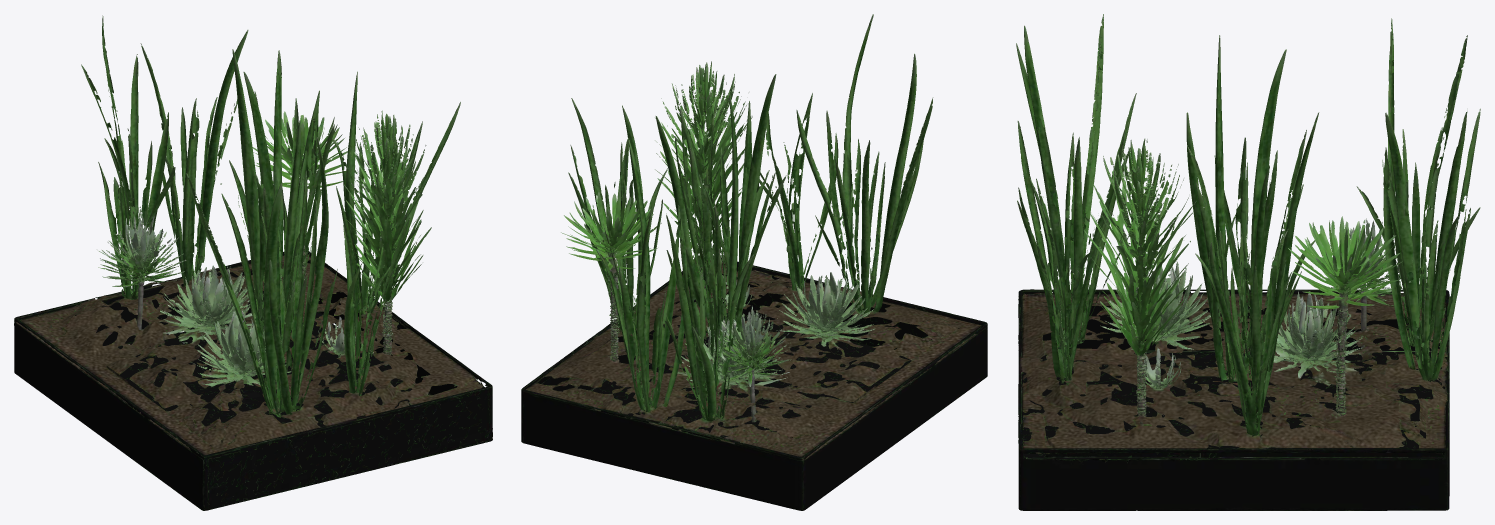
File: architectural_plants.raw.glb
The picture shows the model from 3 angles, left to right: view 1: azimuth 30°, elevation 25°; view 2: azimuth 150°, elevation 25°; view 3: azimuth 270°, elevation 25°; orthographic projection. The views are drawn at different scales.
Visible parts, largest first — view 1: world; view 2: world; view 3: world.
Part boxes in pixels (x1,y1,x2,y2): world: (14,15,492,510); world: (521,14,987,510); world: (1016,14,1480,510).
Size of the model in its own units: 0.9611 by 0.9241 by 0.9985.
1 material, 1 textured.
